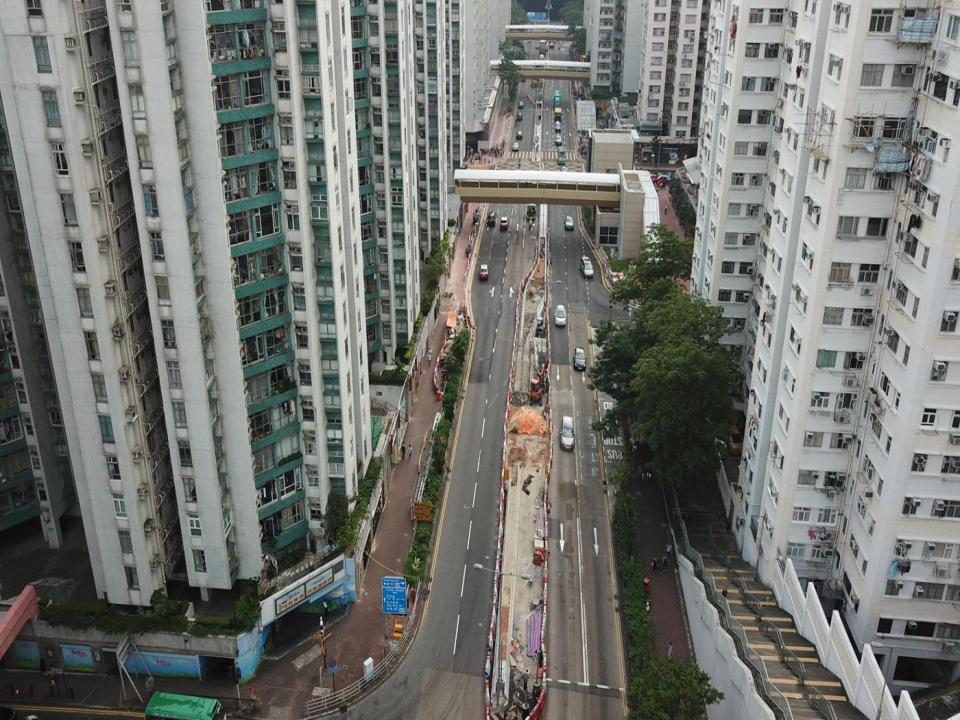bus: (528, 190, 536, 218), (558, 144, 566, 162)
car: (573, 346, 587, 370), (652, 172, 676, 184), (556, 304, 567, 326), (479, 263, 490, 280), (499, 216, 508, 230), (565, 216, 573, 229), (561, 165, 568, 179), (518, 100, 524, 110), (555, 136, 561, 146), (513, 142, 519, 150), (517, 111, 523, 119), (517, 130, 523, 138)
truck: (553, 89, 561, 107), (555, 104, 561, 122)
van: (560, 416, 574, 450), (580, 255, 593, 278), (486, 211, 495, 224), (554, 120, 561, 130)
